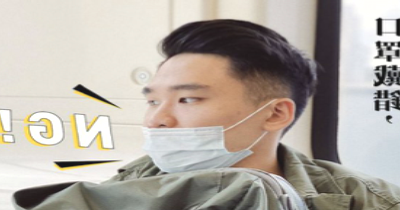mask_weared_incorrect: (140, 81, 253, 173)
